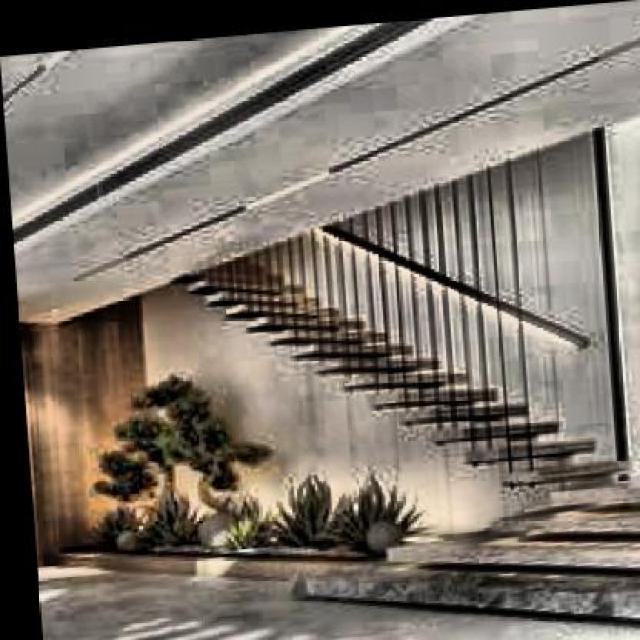stair: (163, 222, 585, 503), (285, 484, 640, 638)
